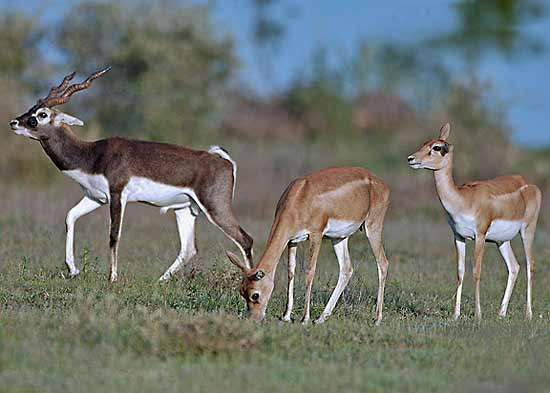Blackbuck: (7, 67, 257, 284)
Deer: (226, 163, 389, 328), (406, 123, 542, 320)
